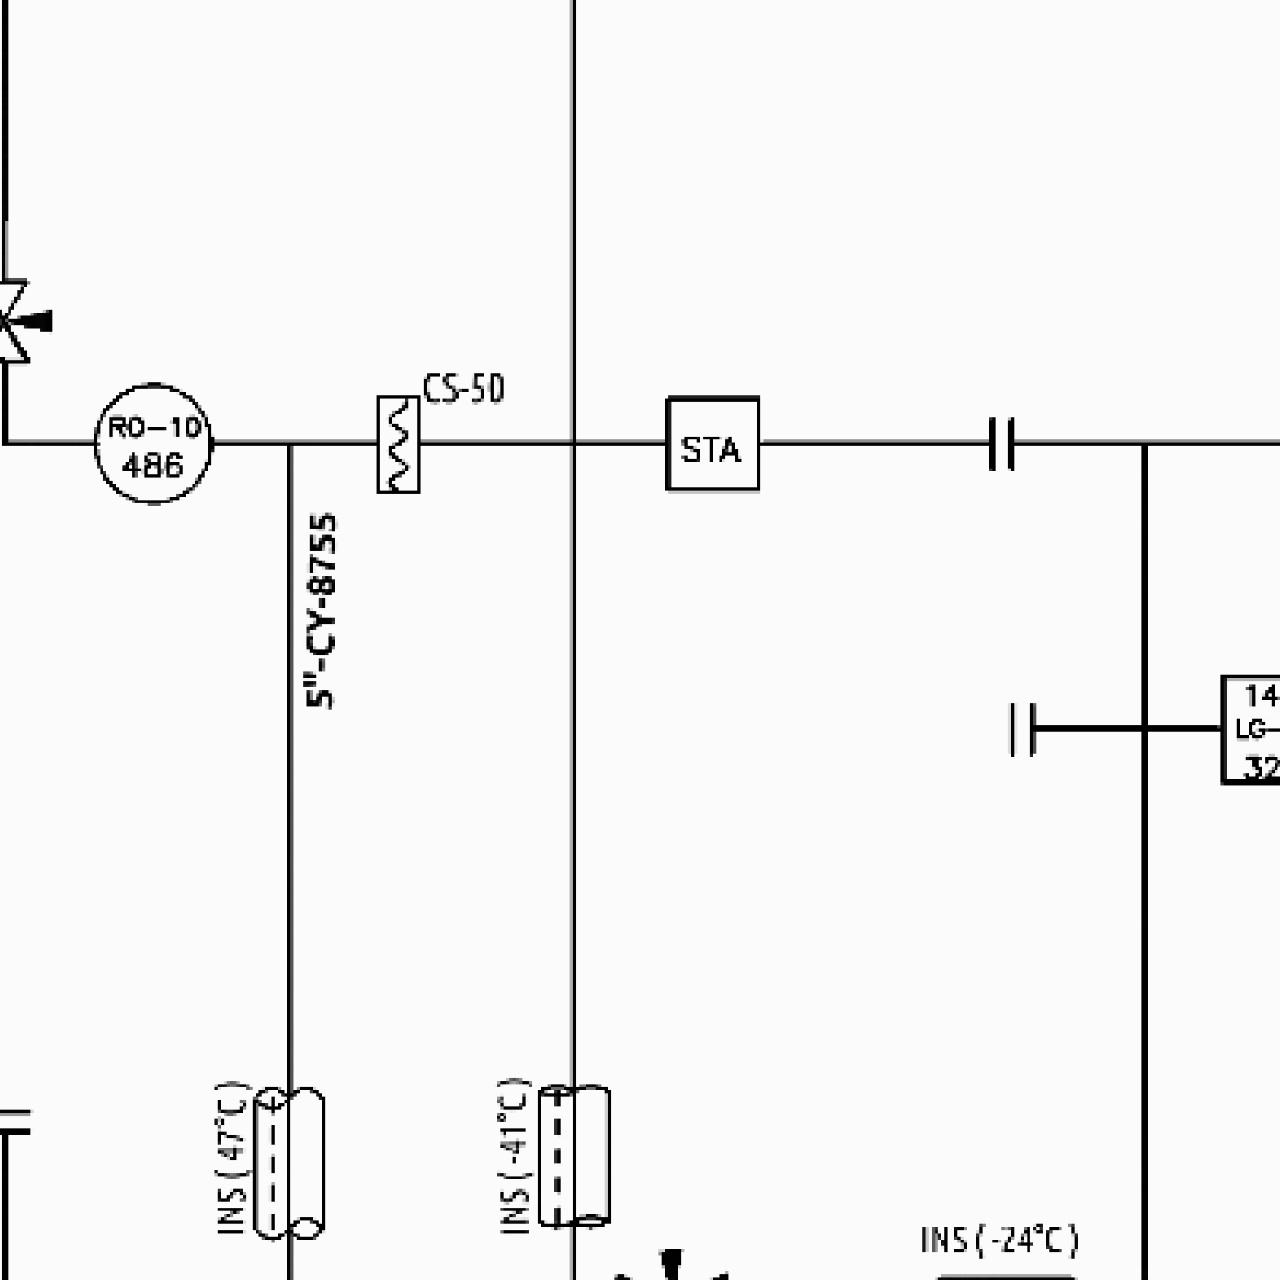Control-Panel: (87, 377, 217, 508)
